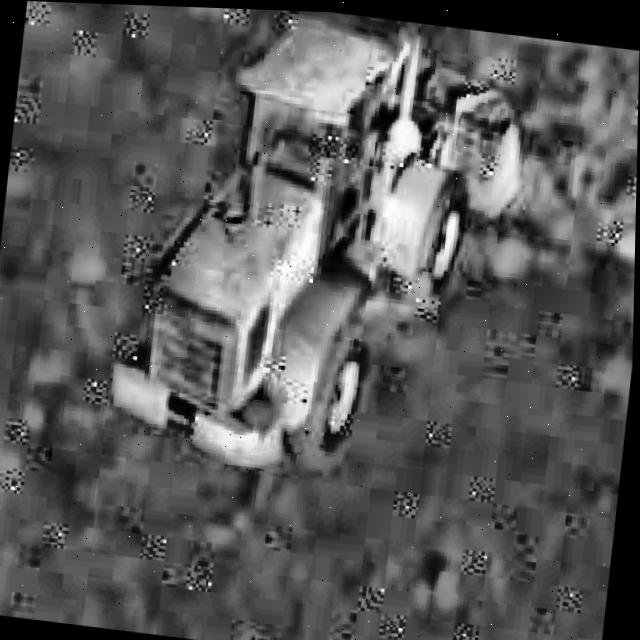buldozerpayloadergrader: (91, 3, 547, 500)
